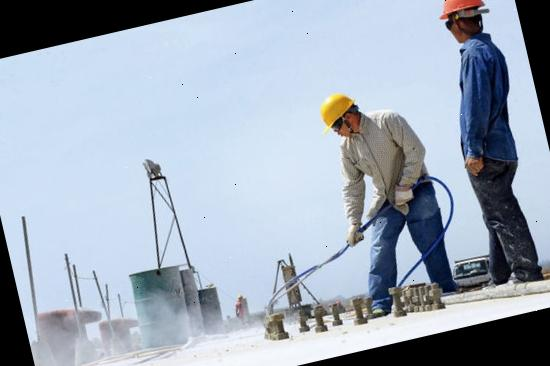helmet: (307, 87, 364, 137), (430, 0, 489, 24)
no_wear: (342, 113, 427, 214)
wear: (449, 38, 530, 165)
